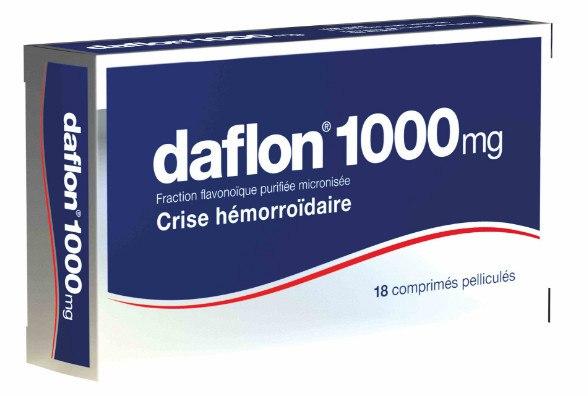Medicine: (17, 14, 559, 382)
